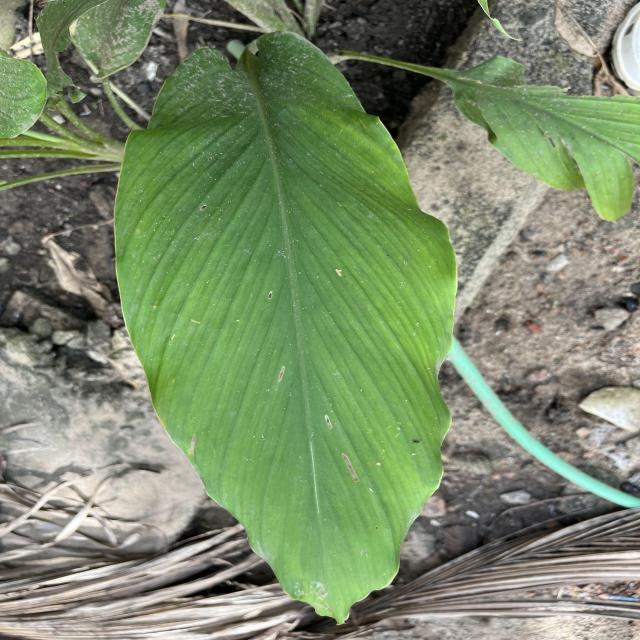Curcuma longa: (110, 25, 462, 629)
